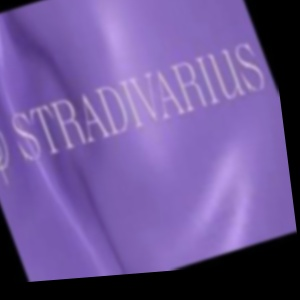stradivarius: (263, 0, 273, 43)
